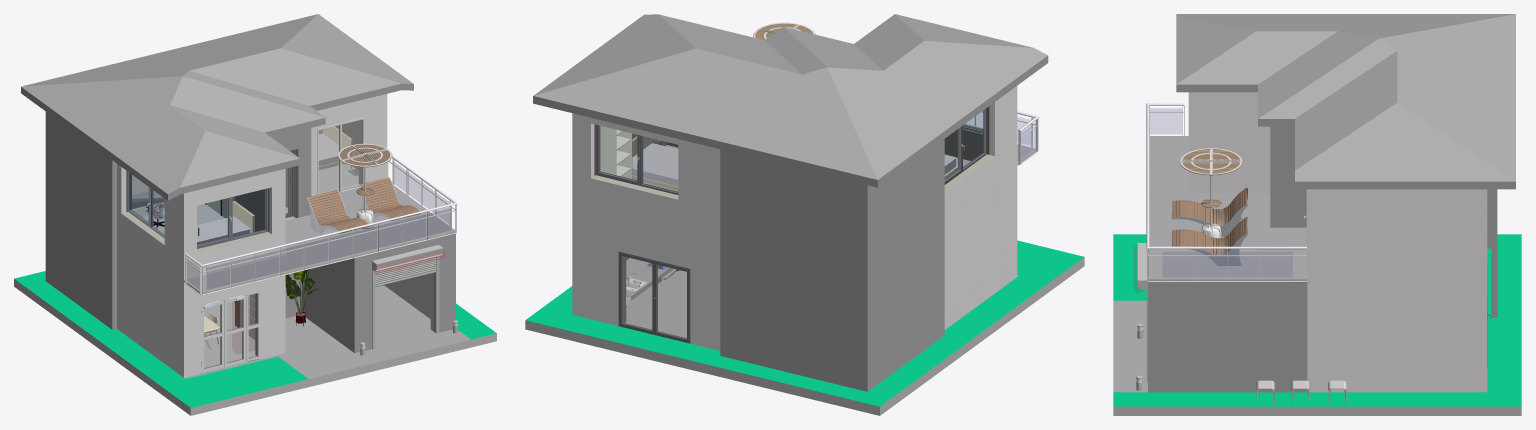
File: house.glb
3 views of the same model, side by side, from view 1: azimuth 30°, elevation 25°; view 2: azimuth 150°, elevation 25°; view 3: azimuth 270°, elevation 25° (orthographic). The views are drawn at different scales.
Visible parts, largest first — view 1: Wall Murs <274080 Ext. Parpaing 20 + Isolant 10<, FamilyInstance Portes Aluprof_BGR-SK_E_Alu_Garage-Door-Box-2; view 2: Wall Murs <274080 Ext. Parpaing 20 + Isolant 10<, FamilyInstance Portes Aluprof_BGR-SK_E_Alu_Garage-Door-Box-2; view 3: Wall Murs <274080 Ext. Parpaing 20 + Isolant 10<, FamilyInstance Portes Aluprof_BGR-SK_E_Alu_Garage-Door-Box-2.
Boxes of the visible parts, x1,y1,x2,y2 form: Wall Murs <274080 Ext. Parpaing 20 + Isolant 10<: (14,14,496,415); FamilyInstance Portes Aluprof_BGR-SK_E_Alu_Garage-Door-Box-2: (187,120,457,354); Wall Murs <274080 Ext. Parpaing 20 + Isolant 10<: (525,14,1084,415); FamilyInstance Portes Aluprof_BGR-SK_E_Alu_Garage-Door-Box-2: (622,111,1035,338); Wall Murs <274080 Ext. Parpaing 20 + Isolant 10<: (1113,14,1521,415); FamilyInstance Portes Aluprof_BGR-SK_E_Alu_Garage-Door-Box-2: (1136,108,1292,382).
Bounding box in the file's own units: 10000 × 7169 × 10000.
2 materials, 2 textured.
